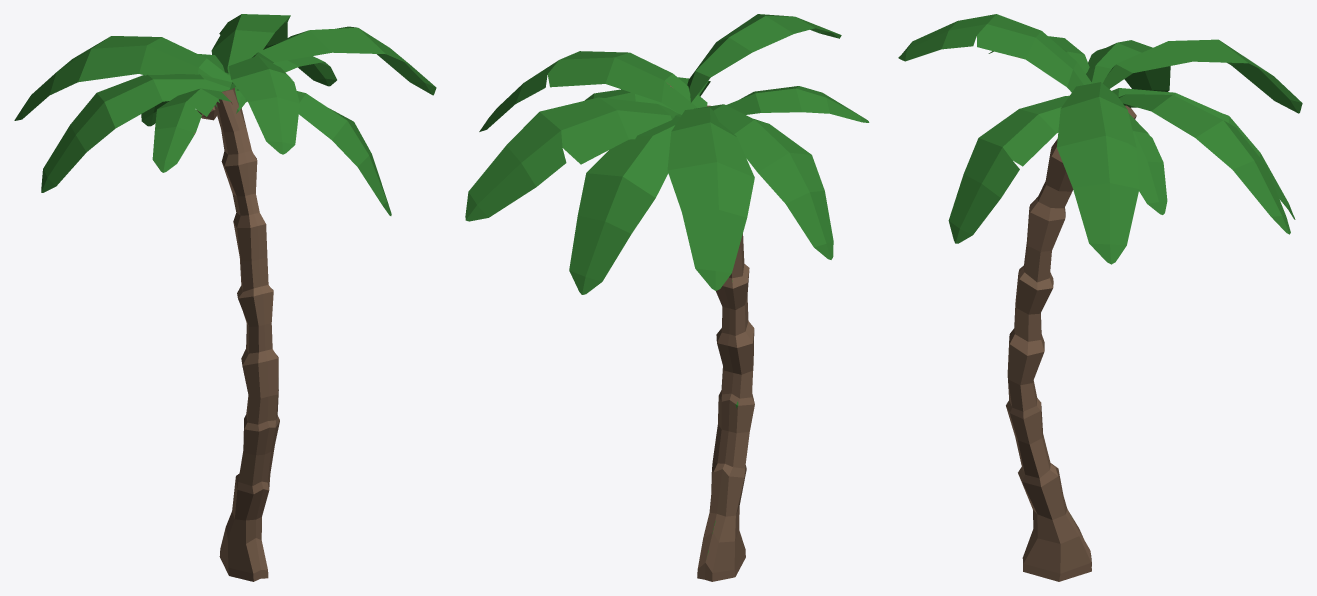
The model's file is PalmTree.fbx.
The picture shows the model from 3 angles, left to right: view 1: azimuth 30°, elevation 25°; view 2: azimuth 150°, elevation 25°; view 3: azimuth 270°, elevation 25°; orthographic projection. The views are drawn at different scales.
Visible parts, largest first — view 1: Plane.003; view 2: Plane.003; view 3: Plane.003.
Boxes of the visible parts, box(x1,y1,x2,y2) form: Plane.003: box(14, 14, 436, 581); Plane.003: box(465, 14, 869, 581); Plane.003: box(898, 14, 1302, 581).
Size of the model in its own units: 271 by 371 by 250.
1 material, 1 textured.
